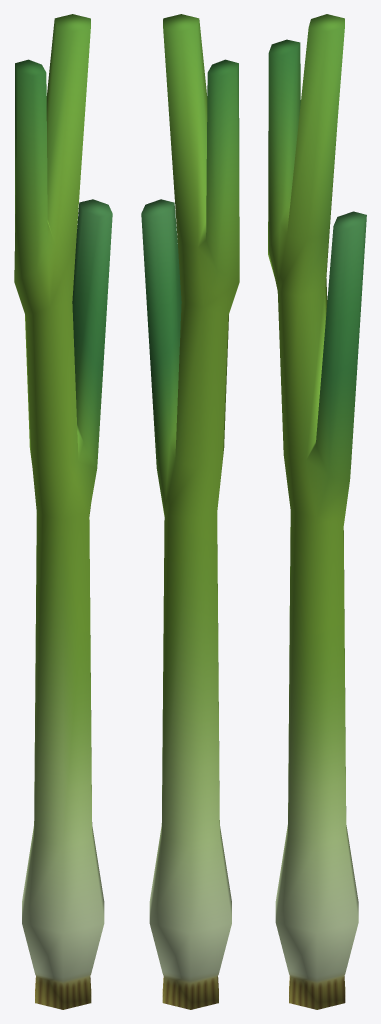
File: Springonion.FBX
3 views of the same model, side by side, from view 1: azimuth 30°, elevation 25°; view 2: azimuth 150°, elevation 25°; view 3: azimuth 330°, elevation 25° (orthographic).
Parts seen in each view (by area): view 1: Springonion; view 2: Springonion; view 3: Springonion.
Boxes of the visible parts, x1=… form: Springonion: x1=14, y1=14, x2=112, y2=1009; Springonion: x1=141, y1=14, x2=239, y2=1009; Springonion: x1=268, y1=14, x2=366, y2=1009.
Bounding box in the file's own units: 2.02 × 19.83 × 1.53.
1 material, 1 textured.
